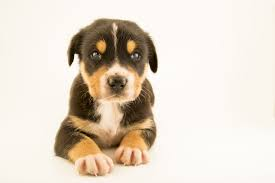dog: (54, 9, 181, 115)
